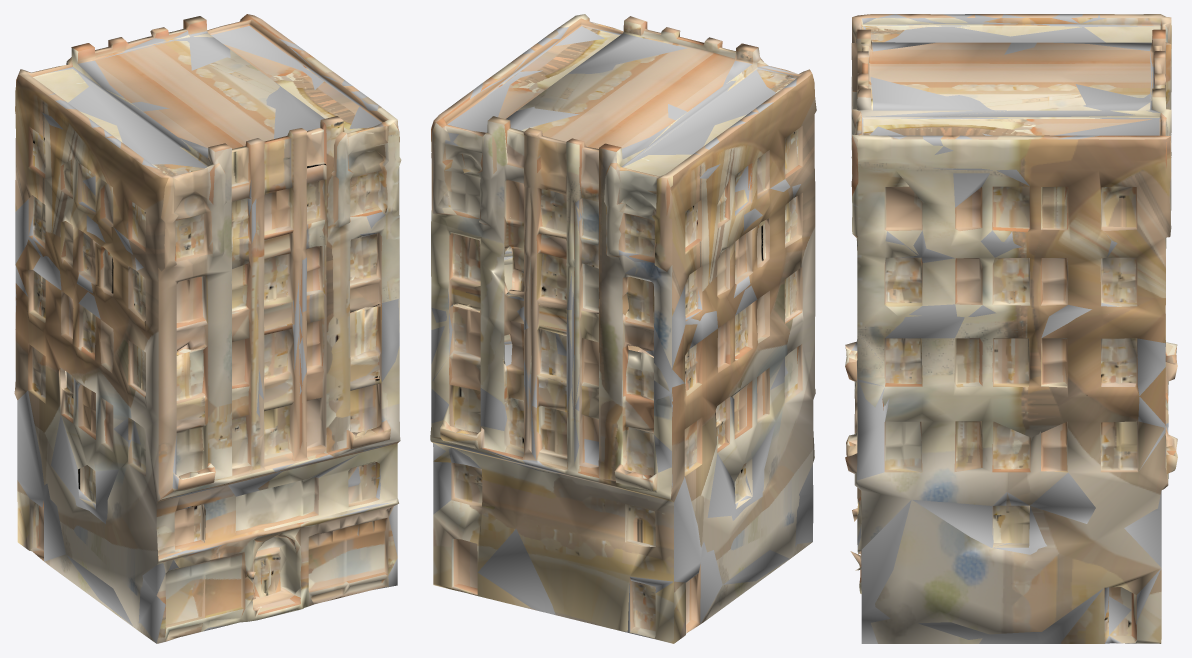
The model's file is bina2.fbx.
3 renders of one model, left to right at view 1: azimuth 30°, elevation 25°; view 2: azimuth 150°, elevation 25°; view 3: azimuth 270°, elevation 25°, orthographic. The views are drawn at different scales.
Visible parts, largest first — view 1: Mesh_0, Mesh_0.001; view 2: Mesh_0, Mesh_0.001; view 3: Mesh_0, Mesh_0.001.
Part boxes in pixels (<box>): Mesh_0: <box>14,14,401,643</box>; Mesh_0.001: <box>15,26,399,643</box>; Mesh_0: <box>430,14,816,643</box>; Mesh_0.001: <box>431,26,813,638</box>; Mesh_0: <box>845,14,1177,643</box>; Mesh_0.001: <box>851,14,1168,643</box>.
Size of the model in its own units: 101 by 191 by 112.
